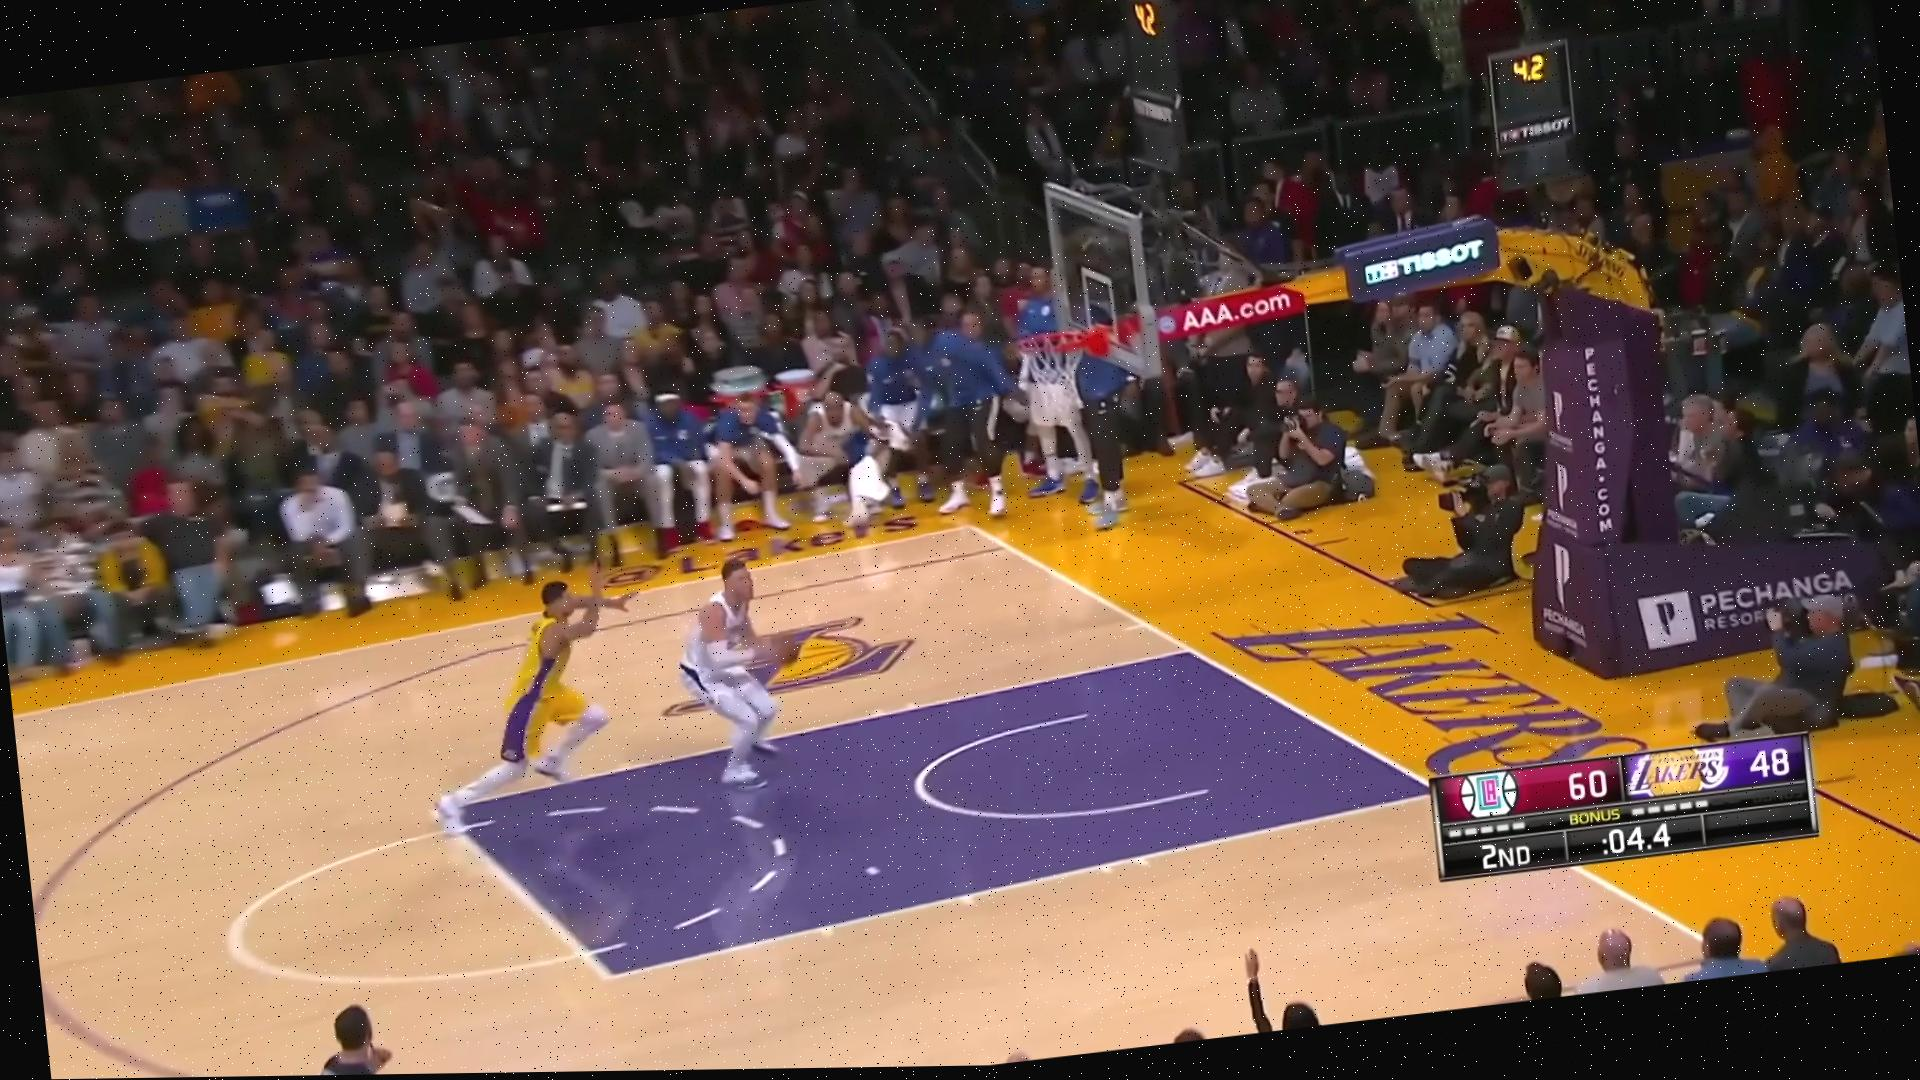no_foul: (430, 516, 878, 836)
